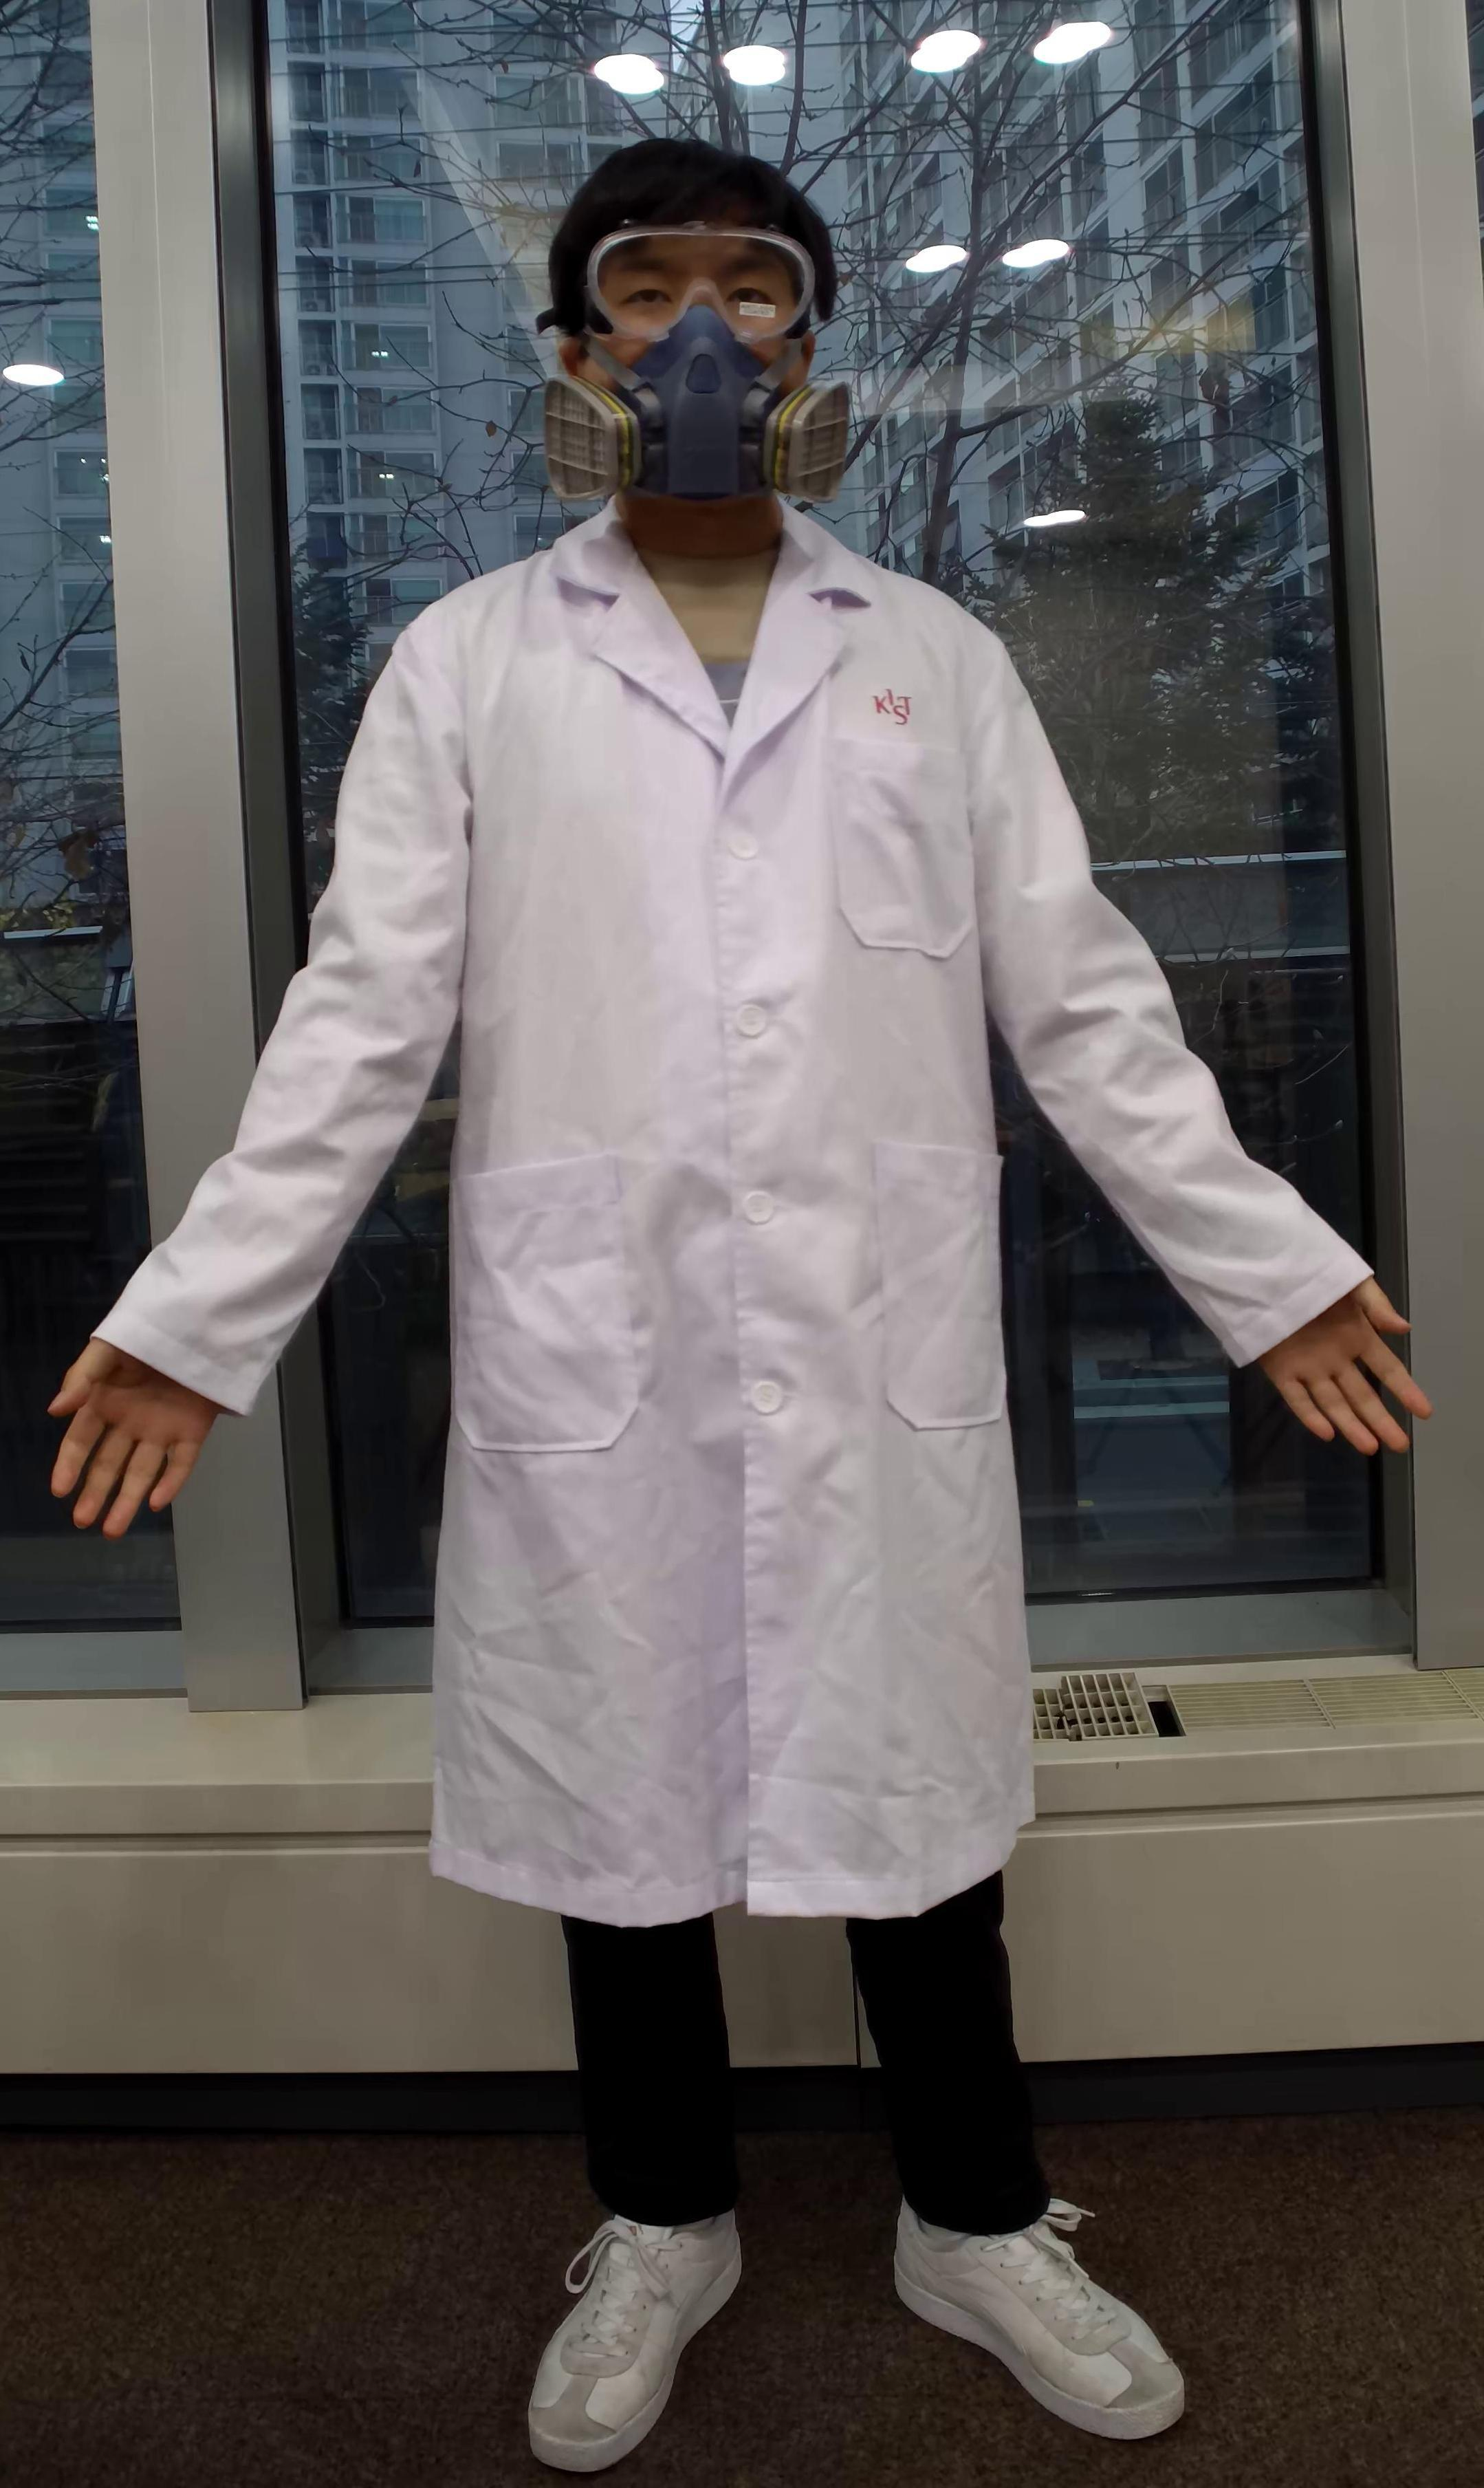lab_coat: (242, 580, 1224, 1912)
